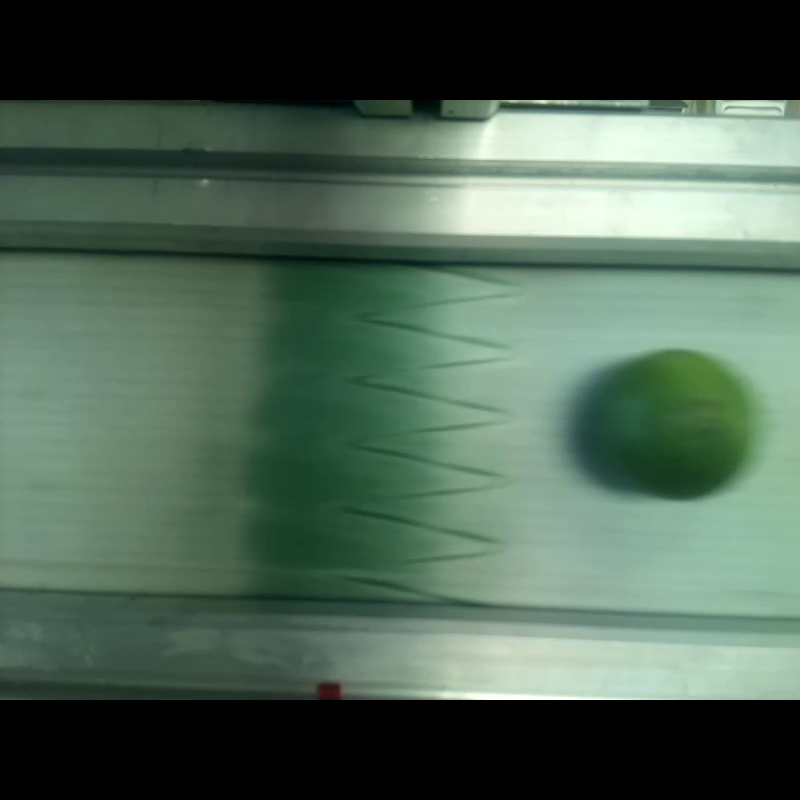lime: (594, 349, 751, 502)
